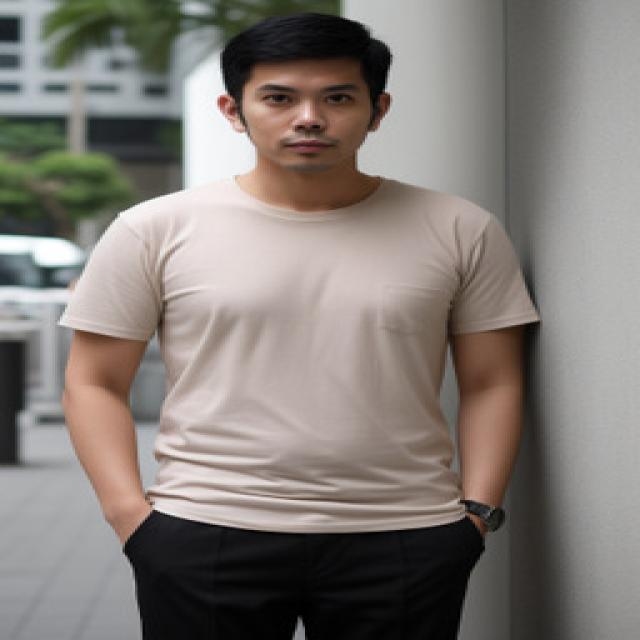Ai human 2: (45, 1, 565, 640)
